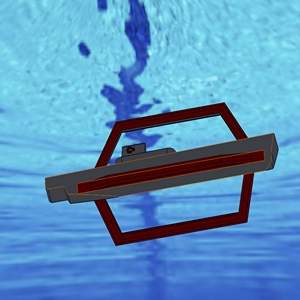submarine: (25, 78, 290, 254)
